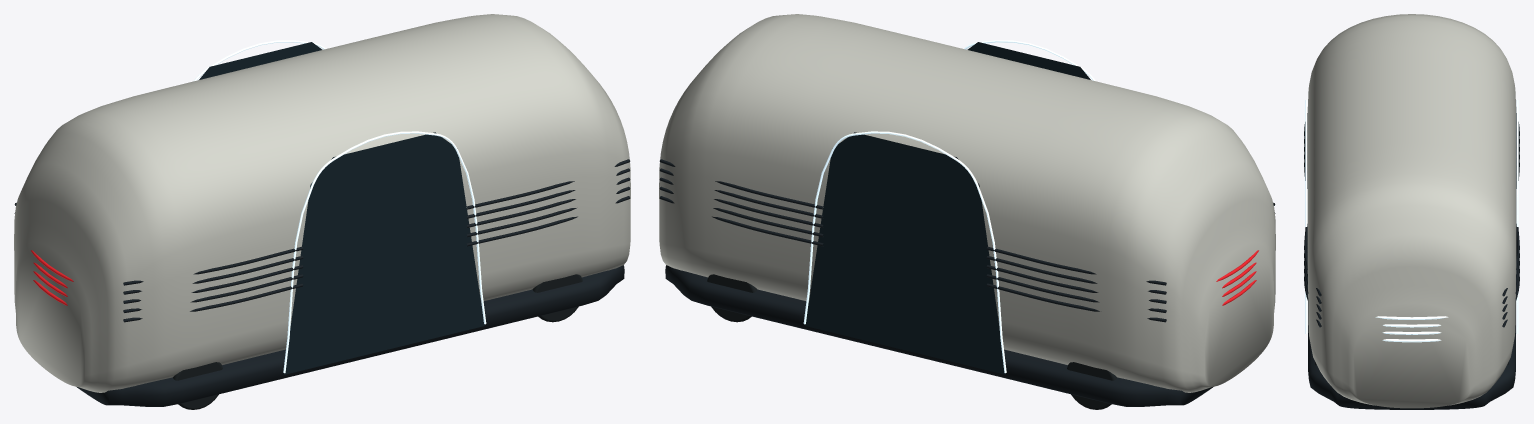
The model's file is campus-vehicles.glb.
The picture shows the model from 3 angles, left to right: view 1: azimuth 30°, elevation 25°; view 2: azimuth 150°, elevation 25°; view 3: azimuth 270°, elevation 25°; orthographic projection. The views are drawn at different scales.
Visible parts, largest first — view 1: ROBOVAN__Robovan champagne silver, ROBOVAN__Smoked automotive glass, ROBOVAN__Black exterior trim, ROBOVAN__Unlit pale LED lens, ROBOVAN__Tire rubber, ROBOVAN__Red rear light lens; view 2: ROBOVAN__Robovan champagne silver, ROBOVAN__Smoked automotive glass, ROBOVAN__Black exterior trim, ROBOVAN__Unlit pale LED lens, ROBOVAN__Tire rubber, ROBOVAN__Red rear light lens; view 3: ROBOVAN__Robovan champagne silver, ROBOVAN__Black exterior trim, ROBOVAN__Unlit pale LED lens.
Boxes of the visible parts, bbox=[...] form: ROBOVAN__Robovan champagne silver: bbox=[14, 14, 630, 392]; ROBOVAN__Smoked automotive glass: bbox=[199, 42, 484, 374]; ROBOVAN__Black exterior trim: bbox=[14, 159, 630, 406]; ROBOVAN__Unlit pale LED lens: bbox=[194, 40, 486, 373]; ROBOVAN__Tire rubber: bbox=[173, 274, 582, 409]; ROBOVAN__Red rear light lens: bbox=[31, 250, 73, 305]; ROBOVAN__Robovan champagne silver: bbox=[659, 14, 1275, 392]; ROBOVAN__Smoked automotive glass: bbox=[805, 42, 1090, 374]; ROBOVAN__Black exterior trim: bbox=[659, 159, 1275, 406]; ROBOVAN__Unlit pale LED lens: bbox=[803, 40, 1095, 373]; ROBOVAN__Tire rubber: bbox=[707, 274, 1116, 409]; ROBOVAN__Red rear light lens: bbox=[1216, 250, 1258, 305]; ROBOVAN__Robovan champagne silver: bbox=[1307, 14, 1516, 408]; ROBOVAN__Black exterior trim: bbox=[1304, 113, 1519, 409]; ROBOVAN__Unlit pale LED lens: bbox=[1305, 99, 1518, 342].
Bounding box in the file's own units: 6.58 × 2.9 × 2.64.
